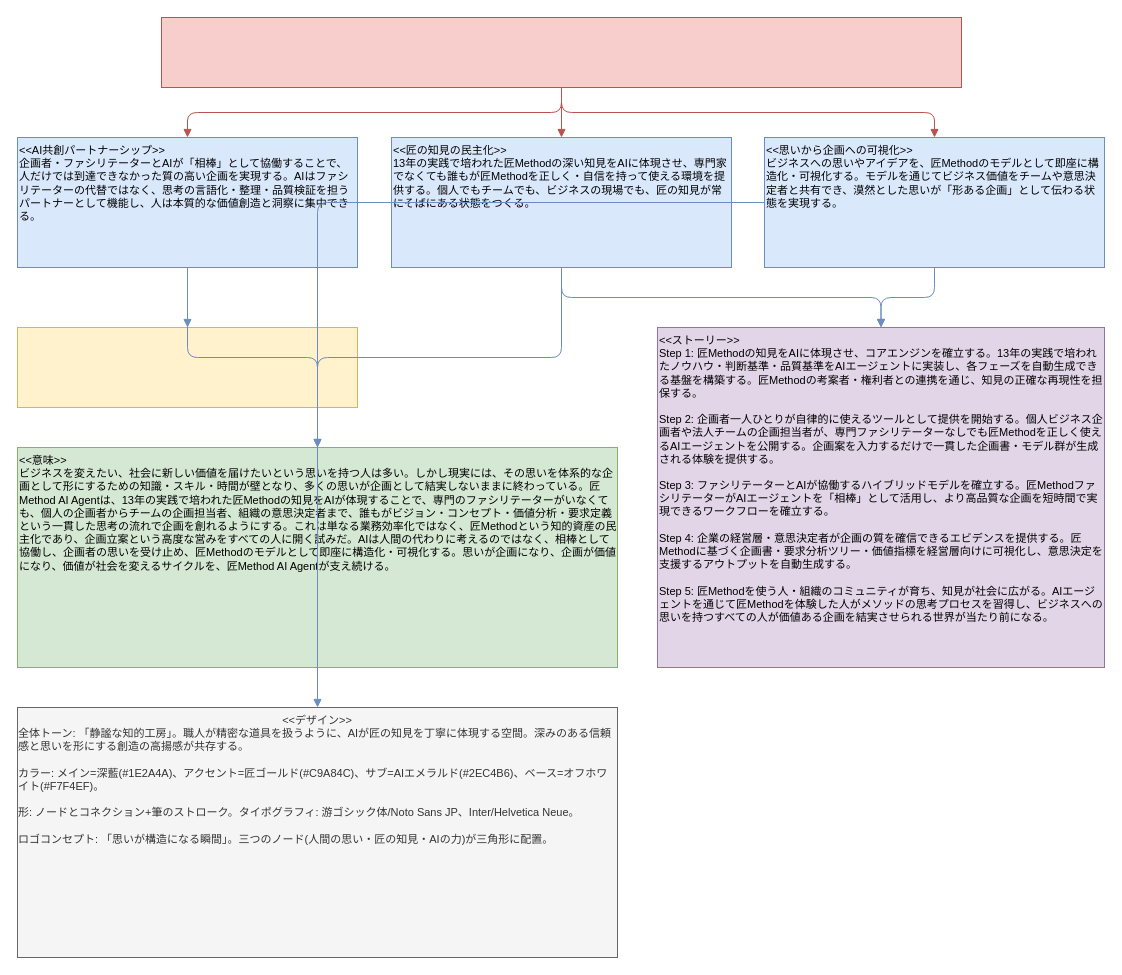
The diagram is 1122 pixels wide and 975 high, and some of its shapes have lost their labels. The centre of each missing label's shape, as x and y in pixels:
"<<ビジョン>> ビジネスへの思いを持つすべての人が、匠Methodで価値ある企画を創れる世界を実現する" goes at [561,52].
"<<言葉>> あなたの思いを、価値ある企画へ。" goes at [187,367].
